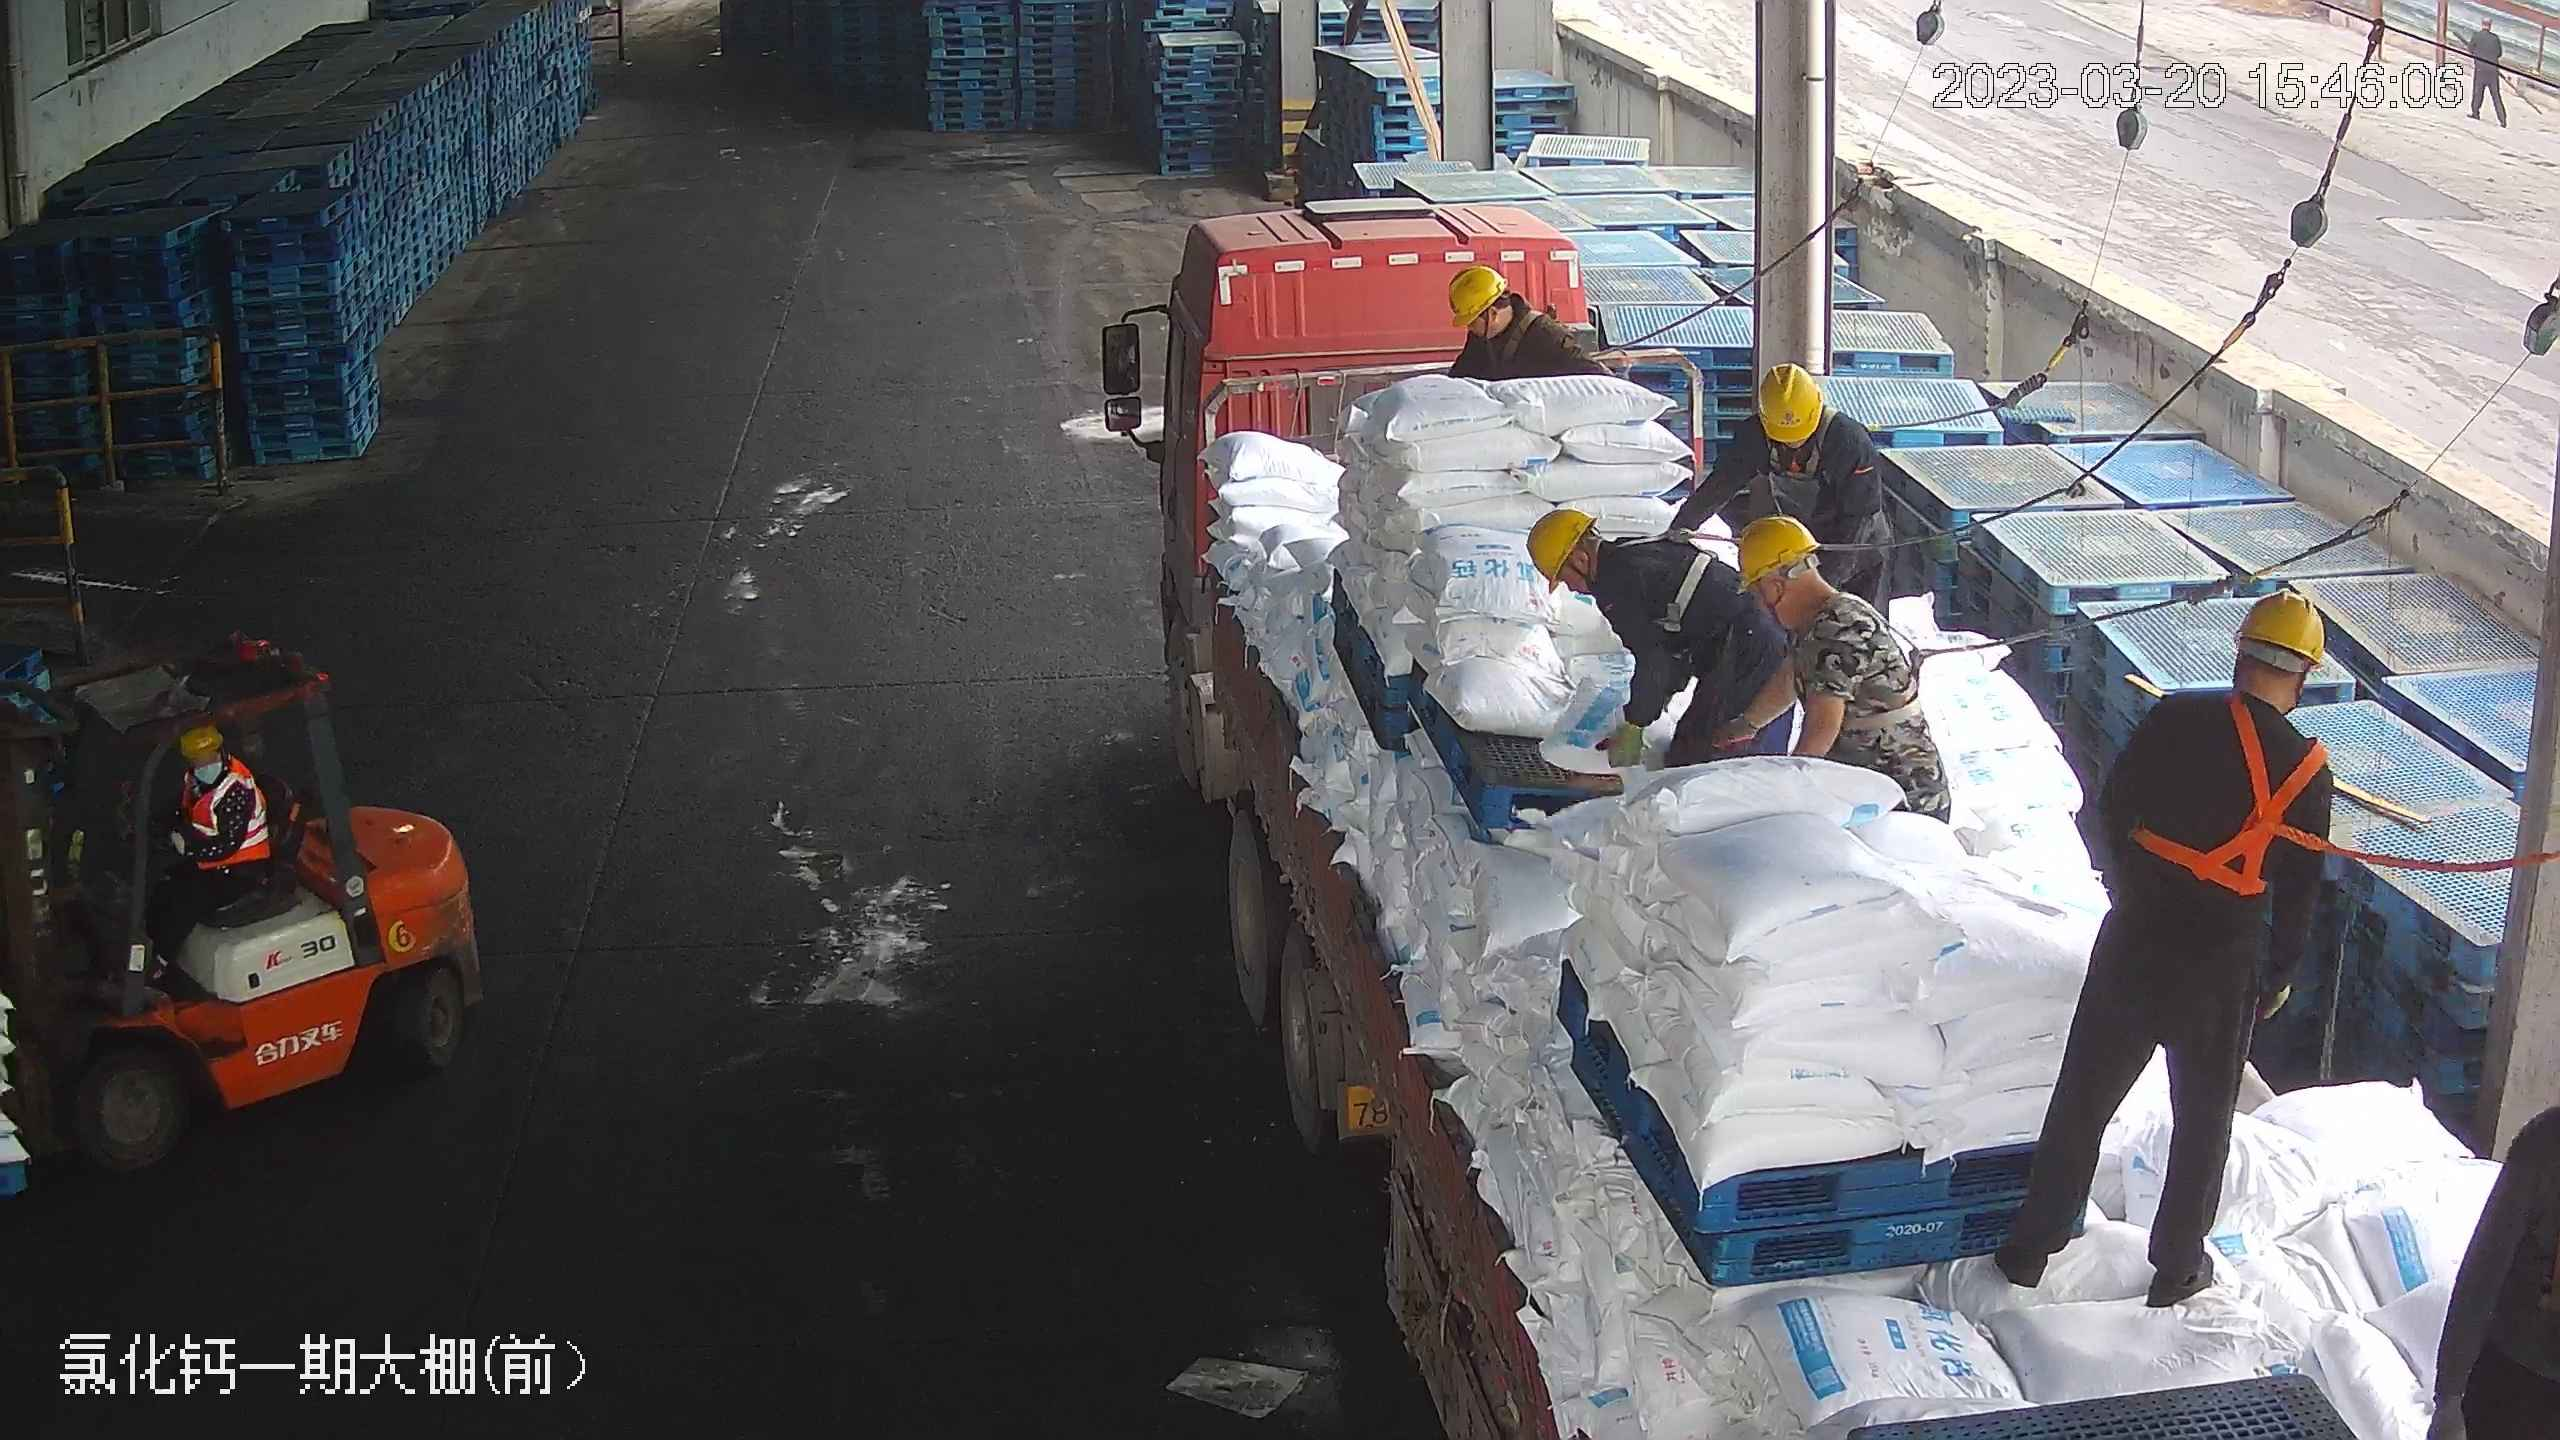belt: (2124, 695, 2327, 904), (1808, 581, 1945, 718), (1607, 521, 1734, 637), (1757, 406, 1856, 484), (1482, 309, 1565, 365)
head: (2121, 584, 2342, 822), (2448, 902, 2560, 1345), (1724, 511, 1912, 684), (1717, 358, 1876, 492), (1521, 505, 1680, 619), (1446, 261, 1576, 364), (163, 721, 253, 813)
helmet: (2230, 589, 2326, 672), (1731, 510, 1820, 591), (1525, 503, 1597, 587), (1754, 358, 1826, 440), (1444, 261, 1504, 324), (179, 720, 222, 756)
people: (1969, 578, 2350, 1315), (1518, 497, 1800, 781), (1665, 354, 1894, 646), (1750, 513, 1953, 831), (136, 717, 265, 966)
truck: (1124, 176, 2530, 1430)
